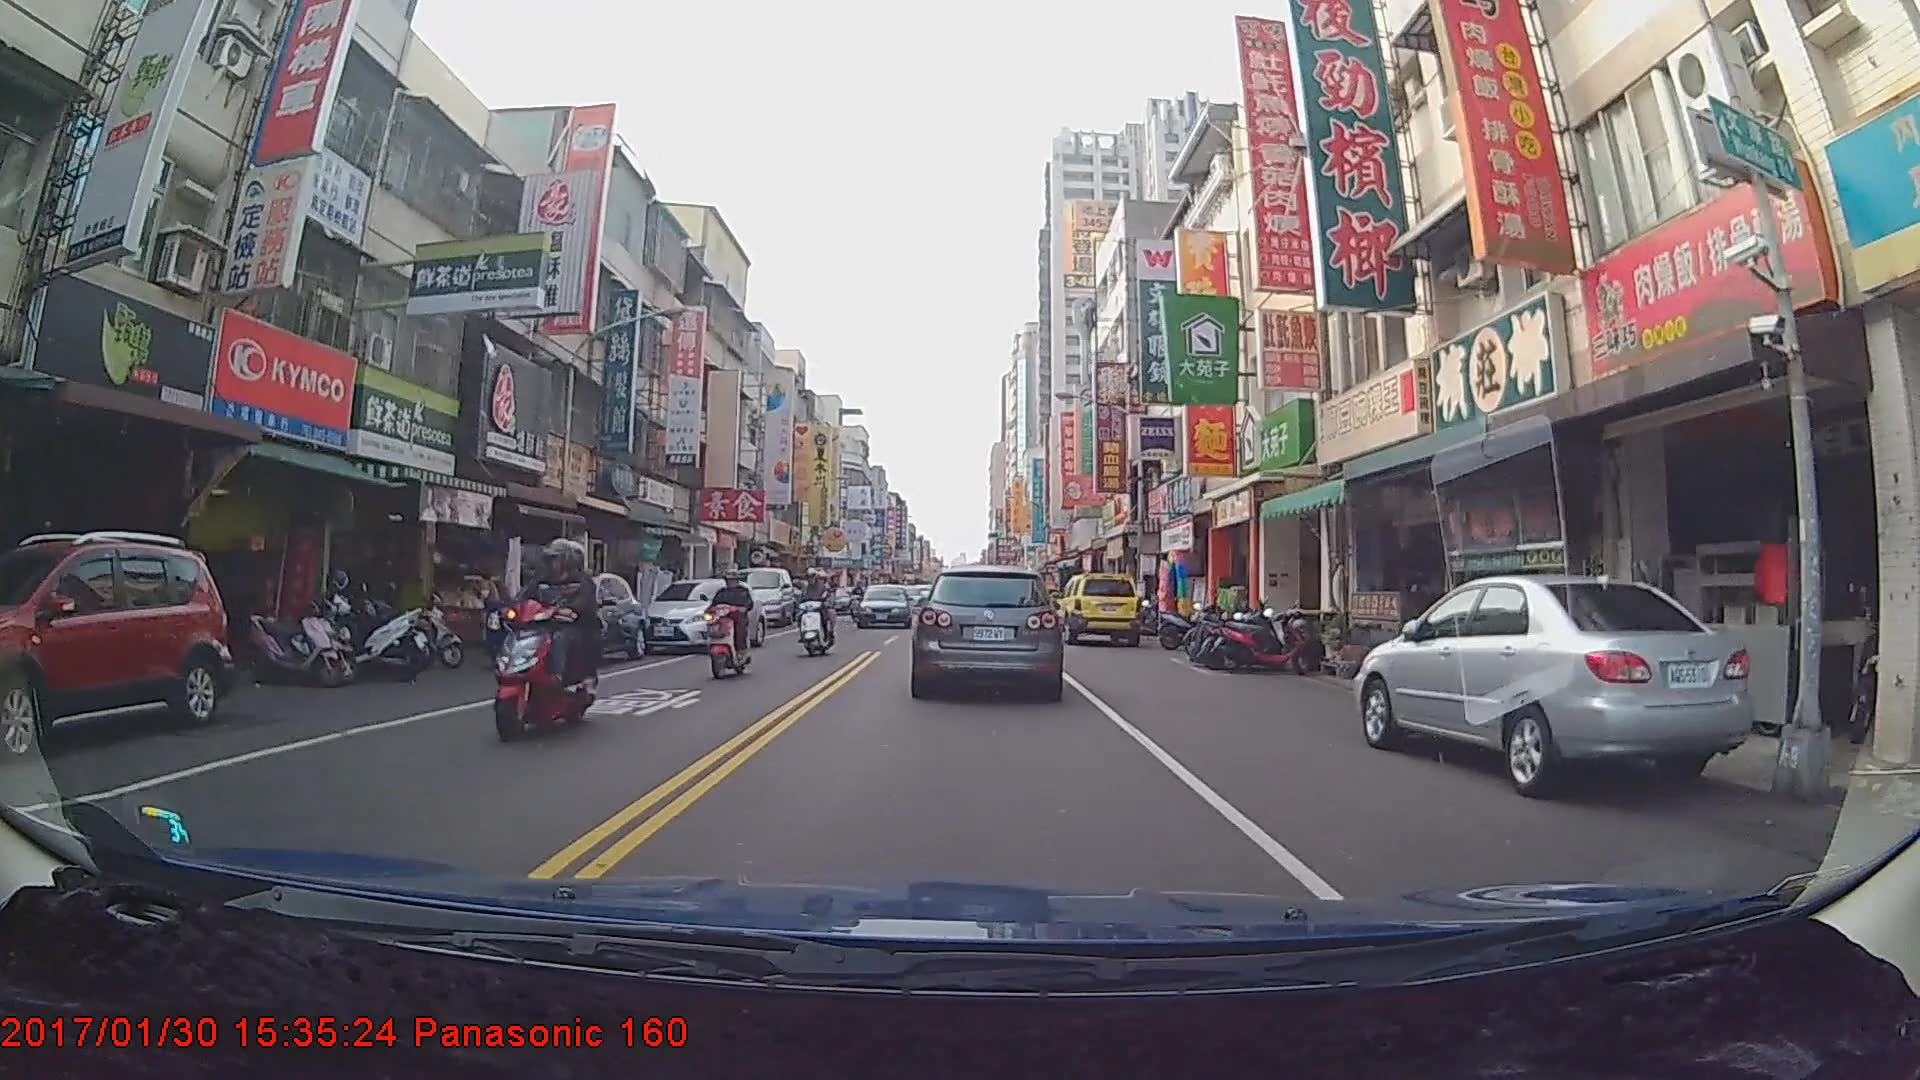rider: (491, 545, 599, 741), (705, 570, 757, 683), (789, 569, 837, 659)
vehicle: (1353, 570, 1755, 796), (0, 533, 230, 748), (911, 564, 1061, 699), (480, 569, 647, 670), (634, 575, 765, 652), (1053, 571, 1142, 645), (731, 565, 794, 626), (849, 582, 913, 628)
